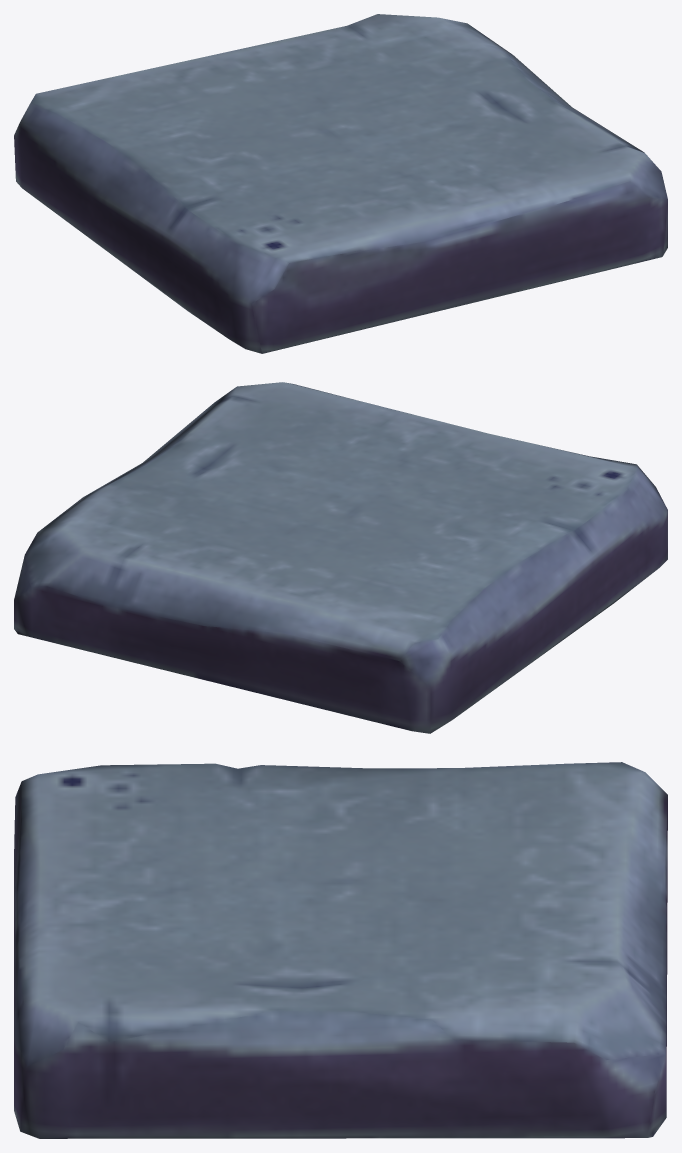
File: Tile3.FBX
The picture shows the model from 3 angles, top to bottom: view 1: azimuth 30°, elevation 25°; view 2: azimuth 150°, elevation 25°; view 3: azimuth 270°, elevation 25°; orthographic projection. The views are drawn at different scales.
Parts seen in each view (by area): view 1: Tile3_01; view 2: Tile3_01; view 3: Tile3_01.
Boxes of the visible parts, box(x1,y1,x2,y2) form: Tile3_01: box(14, 14, 667, 353); Tile3_01: box(14, 382, 667, 733); Tile3_01: box(14, 762, 667, 1138).
Size of the model in its own units: 2 by 0.3949 by 2.
Materials: 1 (1 with a texture image).
